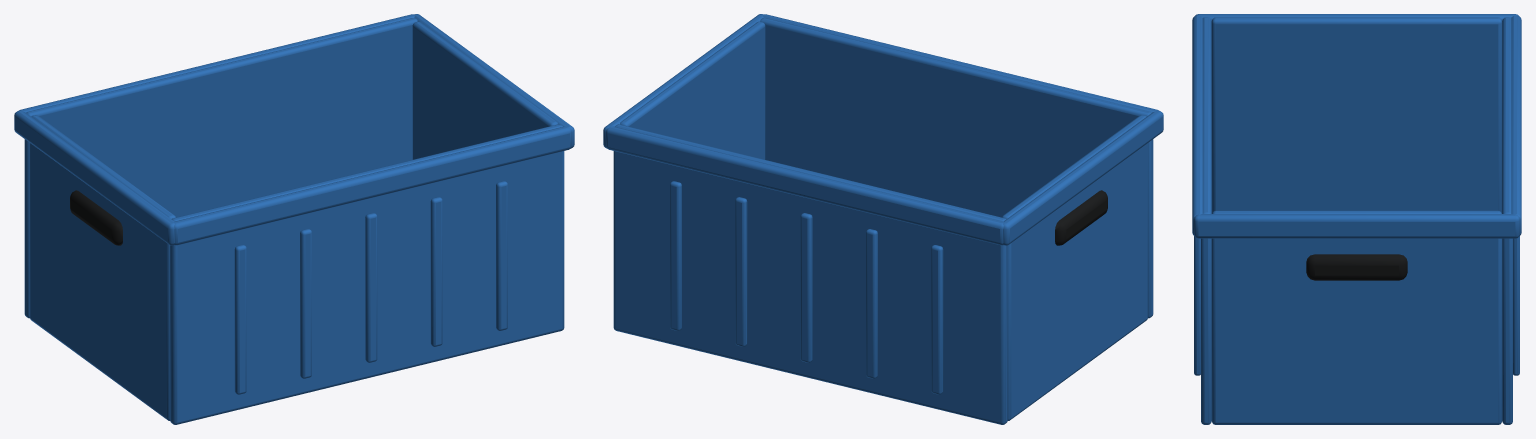
The model's file is crate_paper_blank.fbx.
3 views of the same model, side by side, from view 1: azimuth 30°, elevation 25°; view 2: azimuth 150°, elevation 25°; view 3: azimuth 270°, elevation 25° (orthographic). The views are drawn at different scales.
Visible parts, largest first — view 1: crate_paper_blank; view 2: crate_paper_blank; view 3: crate_paper_blank.
Boxes of the visible parts, left/top/right/bottom form: crate_paper_blank: left=14, top=14, right=574, bottom=424; crate_paper_blank: left=603, top=14, right=1163, bottom=424; crate_paper_blank: left=1192, top=14, right=1521, bottom=424.
Bounding box in the file's own units: 0.622 × 0.3 × 0.422.
